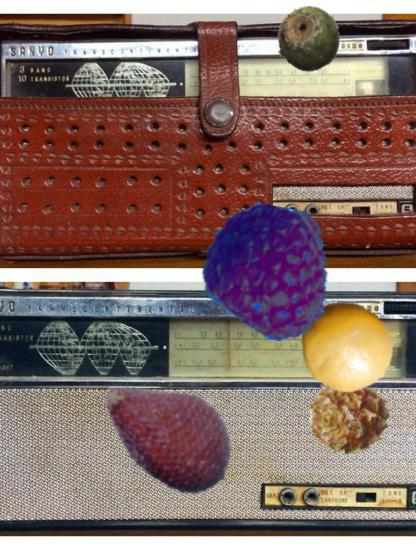Cactus: (273, 6, 341, 74)
Grapefruit: (299, 300, 394, 395)
Pineapple: (309, 374, 392, 457)
Raspberry: (202, 206, 334, 338)
Salak: (94, 356, 244, 506)
